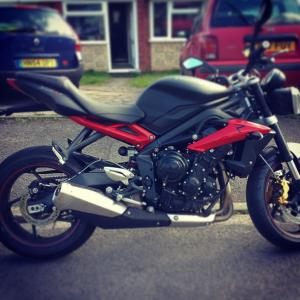Vehicle-registration-plate: (17, 57, 60, 70)
